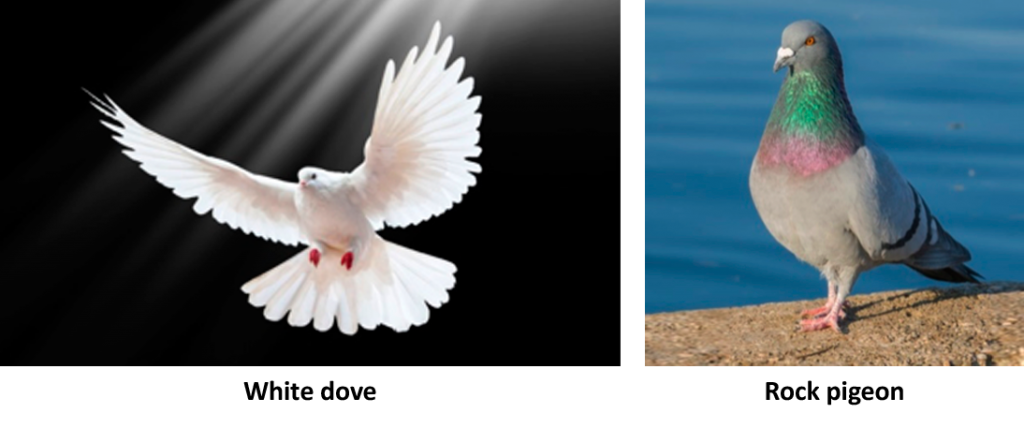Flying Rat: (79, 71, 516, 328), (746, 19, 979, 344)
